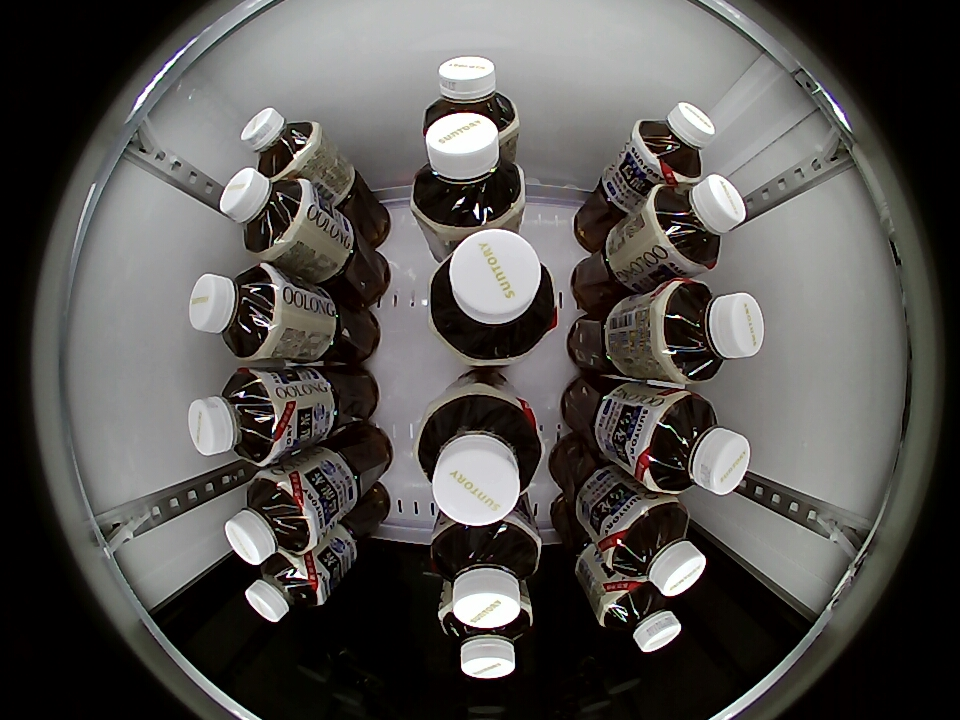wulongcha: (416, 387, 543, 527), (428, 229, 557, 364), (412, 110, 523, 226), (429, 520, 541, 631), (635, 391, 751, 497), (655, 279, 765, 384), (604, 498, 707, 597), (647, 173, 747, 273), (187, 367, 290, 464), (223, 468, 322, 565), (189, 264, 284, 359), (219, 167, 312, 258), (424, 55, 519, 142), (439, 600, 534, 679), (631, 102, 716, 184), (599, 578, 682, 653), (245, 550, 327, 623), (241, 107, 320, 178)
